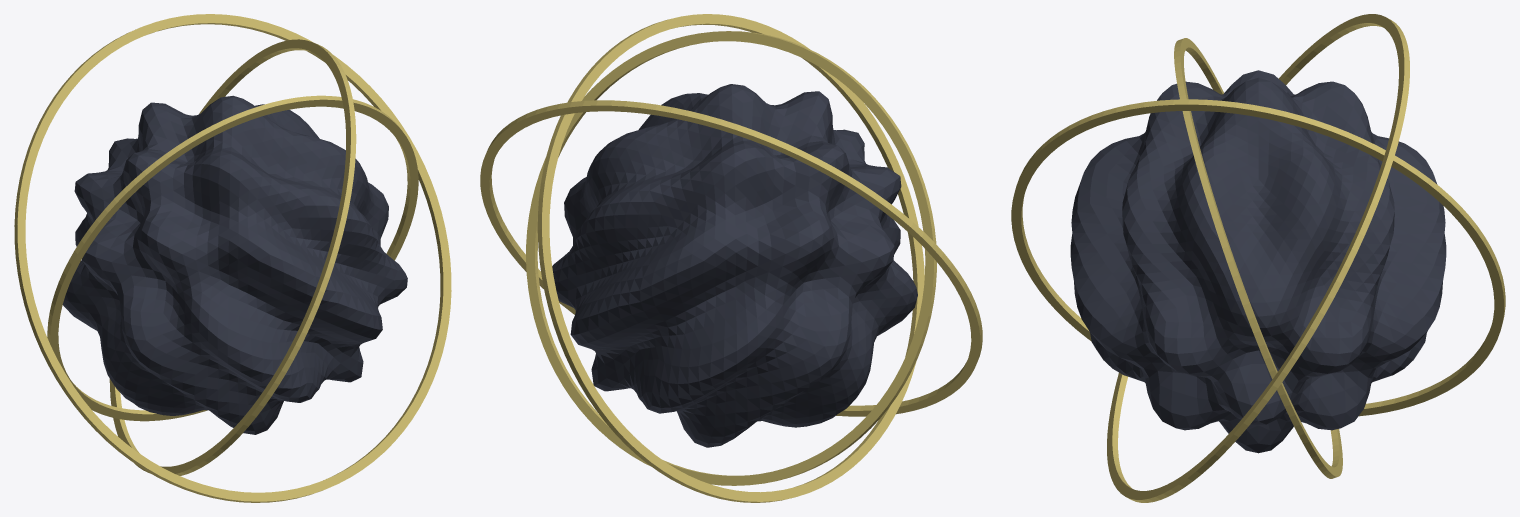
Rendered from gpu-artifact.glb.
The picture shows the model from 3 angles, left to right: view 1: azimuth 30°, elevation 25°; view 2: azimuth 150°, elevation 25°; view 3: azimuth 270°, elevation 25°; orthographic projection. The views are drawn at different scales.
Visible parts, largest first — view 1: chain-of-thoughts_obsidian_core, chain-of-thoughts_orbital_ring_2, chain-of-thoughts_orbital_ring_0, chain-of-thoughts_orbital_ring_1; view 2: chain-of-thoughts_obsidian_core, chain-of-thoughts_orbital_ring_1, chain-of-thoughts_orbital_ring_0, chain-of-thoughts_orbital_ring_2; view 3: chain-of-thoughts_obsidian_core, chain-of-thoughts_orbital_ring_1, chain-of-thoughts_orbital_ring_2, chain-of-thoughts_orbital_ring_0.
Part boxes in pixels (x1,y1,x2,y2): chain-of-thoughts_obsidian_core: [62, 95, 407, 434]; chain-of-thoughts_orbital_ring_2: [14, 14, 451, 502]; chain-of-thoughts_orbital_ring_0: [47, 95, 418, 421]; chain-of-thoughts_orbital_ring_1: [109, 39, 356, 475]; chain-of-thoughts_obsidian_core: [552, 84, 917, 447]; chain-of-thoughts_orbital_ring_1: [537, 14, 924, 502]; chain-of-thoughts_orbital_ring_0: [526, 31, 936, 485]; chain-of-thoughts_orbital_ring_2: [480, 100, 982, 416]; chain-of-thoughts_obsidian_core: [1070, 70, 1446, 453]; chain-of-thoughts_orbital_ring_1: [1011, 99, 1505, 416]; chain-of-thoughts_orbital_ring_2: [1107, 14, 1409, 502]; chain-of-thoughts_orbital_ring_0: [1174, 38, 1342, 478].
Bounding box in the file's own units: 3.23 × 2.75 × 2.93.
